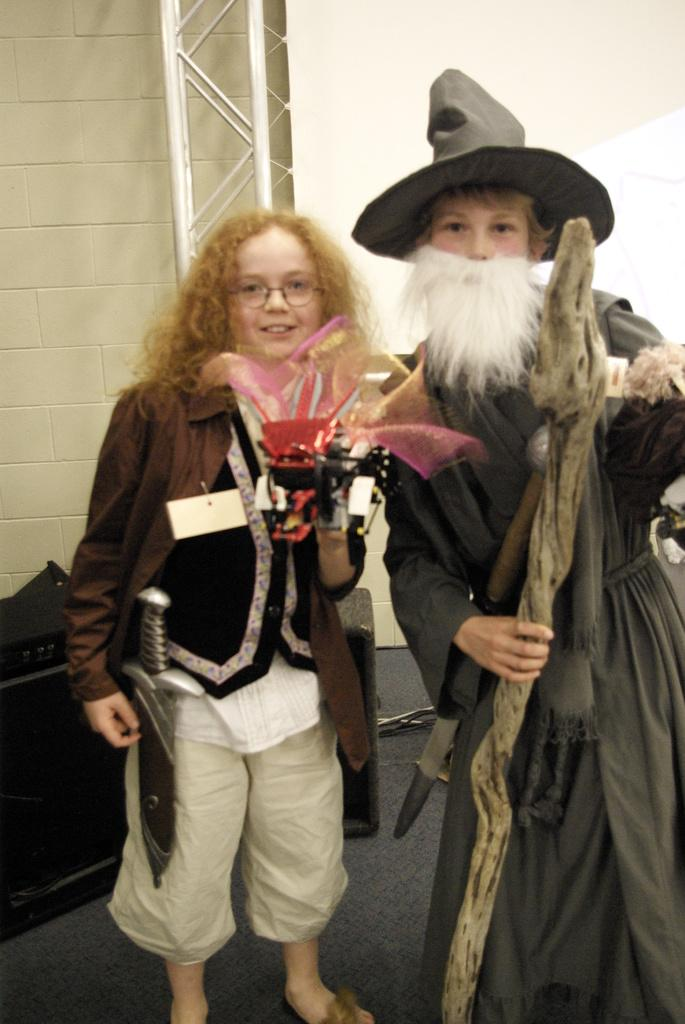Hat: (346, 64, 614, 266)
